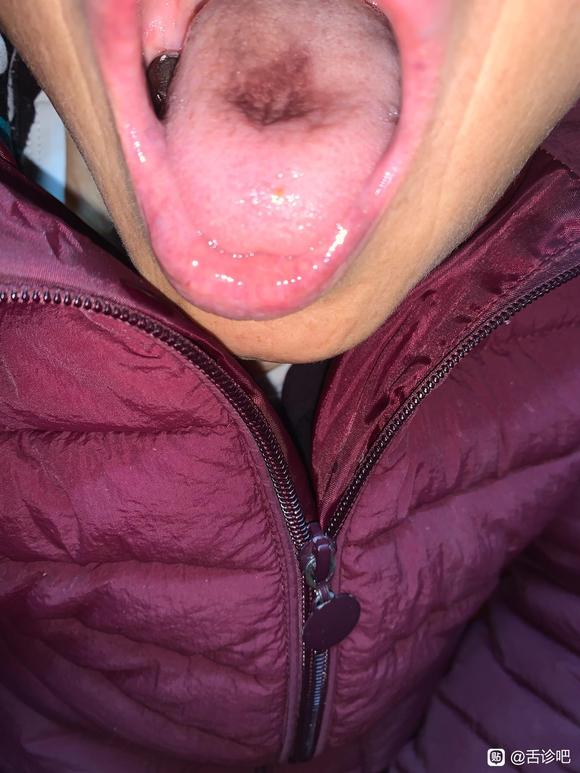baitaishe: (164, 1, 402, 256)
heitaishe: (164, 1, 402, 256)
piweiao: (220, 35, 336, 148)
